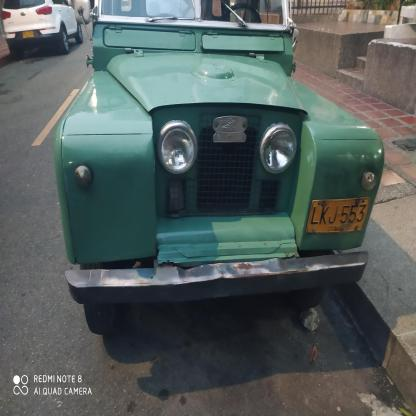placa: (307, 196, 370, 234)
